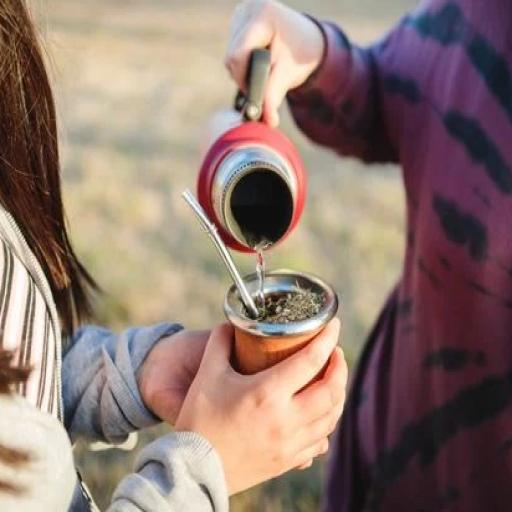mate: (224, 270, 338, 375)
termo: (197, 50, 306, 253)
